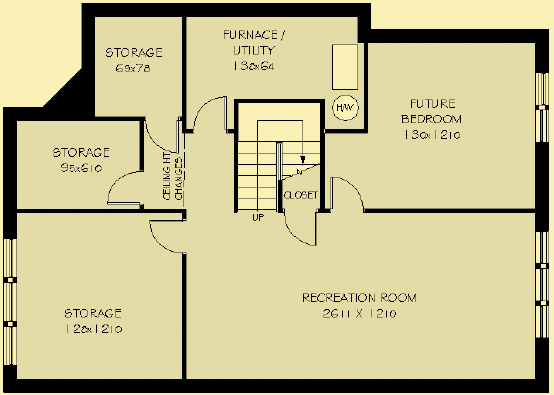door: (145, 217, 188, 255), (191, 94, 230, 135), (145, 115, 181, 156), (105, 170, 143, 206), (284, 209, 319, 248), (330, 176, 366, 213)
stairs: (232, 97, 326, 212)
window: (2, 237, 20, 367), (533, 228, 552, 341), (534, 68, 548, 144)
